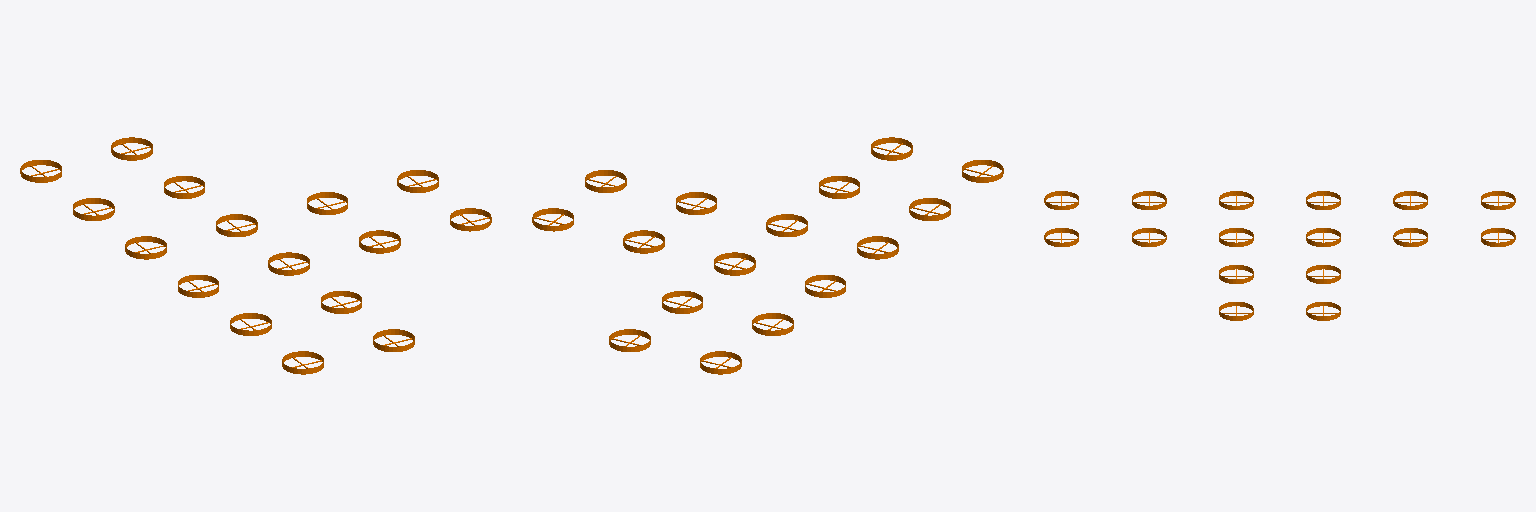
robot.urdf — tetris:
<?xml version="1.0"?>
<robot name="tetris">
    <properties arm="0.0397" kf="3.16e-10" km="7.94e-12" thrust2weight="2.25" max_speed_kmh="30" gnd_eff_coeff="11.36859" prop_radius="2.31348e-2" drag_coeff_xy="9.1785e-7" drag_coeff_z="10.311e-7" dw_coeff_1="2267.18" dw_coeff_2=".16" dw_coeff_3="-.11" />
    <link name="robot_base">
        <inertial>
            <origin rpy="0 0 0" xyz="0 0 0" />
            <inertia ixx="0.012888000000000004" ixz="0.0" ixy="0.0" iyy="0.007488000000000002" iyz="0.0" izz="0.019800000000000005" />
            <mass value="0.54" />
        </inertial>
                
        <collision name="MultiRotor">
            <origin xyz="0.0 0.0 0.0" rpy="0.0 0.0 0.0"/>
            <geometry>
                <box size="0.6 0.6 0.08" />
            </geometry>
        </collision>
        
    <visual name="Shape1">
        <origin xyz="0.0 0.0 0.040000" rpy="0 -1.570796 0.000000" />
        <geometry>
            <mesh filename="./module_vis.dae" />
        </geometry>
        <material name="Shape0_material">
            <color rgba="0.1804 0.1804 0.1804 1.0" />
        </material>
    </visual>
            
    <visual name="Shape2">
        <origin xyz="0.2 0.0 0.040000" rpy="0 -1.570796 0.000000" />
        <geometry>
            <mesh filename="./module_vis.dae" />
        </geometry>
        <material name="Shape0_material">
            <color rgba="0.1804 0.1804 0.1804 1.0" />
        </material>
    </visual>
            
    <visual name="Shape3">
        <origin xyz="0.0 0.2 0.040000" rpy="0 -1.570796 0.000000" />
        <geometry>
            <mesh filename="./module_vis.dae" />
        </geometry>
        <material name="Shape0_material">
            <color rgba="0.1804 0.1804 0.1804 1.0" />
        </material>
    </visual>
            
    <visual name="Shape4">
        <origin xyz="0.0 -0.2 0.040000" rpy="0 -1.570796 0.000000" />
        <geometry>
            <mesh filename="./module_vis.dae" />
        </geometry>
        <material name="Shape0_material">
            <color rgba="0.1804 0.1804 0.1804 1.0" />
        </material>
    </visual>
            
    </link>
        
    <joint name="propeller1" type="fixed">
        <axis xyz="0 0 1" />
        <parent link="robot_base" />
        <child link="propellerrespondable1" />
        <origin xyz="0.05 -0.05 0.03" rpy="0 0 0" />
    </joint>
    <link name="propellerrespondable1">
        <inertial>
            <origin rpy="0 0 0" xyz="-0.000000 0.000000 0.012000" />
            <inertia izz="1.5977926901062e-07" ixx="8.2325171633286e-08" ixy="-5.0583716089947e-21" iyz="-5.6129890954029e-16" iyy="8.2325156656747e-08" ixz="5.7933230213793e-16" />
            <mass value="0.0" />
        </inertial>
        <collision name="propeller_respondable1">
            <origin xyz="-0.000000 0.000000 0.012000" rpy="3.141593 3.141593 1.865350" />
            <geometry>
                <cylinder length="0.0075362827628851" radius="0.024999996647239" />
            </geometry>
        </collision>
        <visual name="propeller_body1">
            <origin xyz="-0.000000 0.000000 0.012000" rpy="0 0 0" />
            <geometry>
                <mesh filename="./propeller_vis.dae" />
            </geometry>
            <material name="propellerbody_material">
                <color rgba="1 0.5294 0 0.9" />
            </material>
        </visual>
    </link>
                
    <joint name="propeller2" type="fixed">
        <axis xyz="0 0 1" />
        <parent link="robot_base" />
        <child link="propellerrespondable2" />
        <origin xyz="-0.05 -0.05 0.03" rpy="0 0 0" />
    </joint>
    <link name="propellerrespondable2">
        <inertial>
            <origin rpy="0 0 0" xyz="-0.000000 0.000000 0.012000" />
            <inertia izz="1.5977926901062e-07" ixx="8.2325171633286e-08" ixy="-5.0583716089947e-21" iyz="-5.6129890954029e-16" iyy="8.2325156656747e-08" ixz="5.7933230213793e-16" />
            <mass value="0.0" />
        </inertial>
        <collision name="propeller_respondable2">
            <origin xyz="-0.000000 0.000000 0.012000" rpy="3.141593 3.141593 1.865350" />
            <geometry>
                <cylinder length="0.0075362827628851" radius="0.024999996647239" />
            </geometry>
        </collision>
        <visual name="propeller_body2">
            <origin xyz="-0.000000 0.000000 0.012000" rpy="0 0 0" />
            <geometry>
                <mesh filename="./propeller_vis.dae" />
            </geometry>
            <material name="propellerbody_material">
                <color rgba="1 0.5294 0 0.9" />
            </material>
        </visual>
    </link>
                
    <joint name="propeller3" type="fixed">
        <axis xyz="0 0 1" />
        <parent link="robot_base" />
        <child link="propellerrespondable3" />
        <origin xyz="-0.05 0.05 0.03" rpy="0 0 0" />
    </joint>
    <link name="propellerrespondable3">
        <inertial>
            <origin rpy="0 0 0" xyz="-0.000000 0.000000 0.012000" />
            <inertia izz="1.5977926901062e-07" ixx="8.2325171633286e-08" ixy="-5.0583716089947e-21" iyz="-5.6129890954029e-16" iyy="8.2325156656747e-08" ixz="5.7933230213793e-16" />
            <mass value="0.0" />
        </inertial>
        <collision name="propeller_respondable3">
            <origin xyz="-0.000000 0.000000 0.012000" rpy="3.141593 3.141593 1.865350" />
            <geometry>
                <cylinder length="0.0075362827628851" radius="0.024999996647239" />
            </geometry>
        </collision>
        <visual name="propeller_body3">
            <origin xyz="-0.000000 0.000000 0.012000" rpy="0 0 0" />
            <geometry>
                <mesh filename="./propeller_vis.dae" />
            </geometry>
            <material name="propellerbody_material">
                <color rgba="1 0.5294 0 0.9" />
            </material>
        </visual>
    </link>
                
    <joint name="propeller4" type="fixed">
        <axis xyz="0 0 1" />
        <parent link="robot_base" />
        <child link="propellerrespondable4" />
        <origin xyz="0.05 0.05 0.03" rpy="0 0 0" />
    </joint>
    <link name="propellerrespondable4">
        <inertial>
            <origin rpy="0 0 0" xyz="-0.000000 0.000000 0.012000" />
            <inertia izz="1.5977926901062e-07" ixx="8.2325171633286e-08" ixy="-5.0583716089947e-21" iyz="-5.6129890954029e-16" iyy="8.2325156656747e-08" ixz="5.7933230213793e-16" />
            <mass value="0.0" />
        </inertial>
        <collision name="propeller_respondable4">
            <origin xyz="-0.000000 0.000000 0.012000" rpy="3.141593 3.141593 1.865350" />
            <geometry>
                <cylinder length="0.0075362827628851" radius="0.024999996647239" />
            </geometry>
        </collision>
        <visual name="propeller_body4">
            <origin xyz="-0.000000 0.000000 0.012000" rpy="0 0 0" />
            <geometry>
                <mesh filename="./propeller_vis.dae" />
            </geometry>
            <material name="propellerbody_material">
                <color rgba="1 0.5294 0 0.9" />
            </material>
        </visual>
    </link>
                
    <joint name="propeller5" type="fixed">
        <axis xyz="0 0 1" />
        <parent link="robot_base" />
        <child link="propellerrespondable5" />
        <origin xyz="0.25 -0.05 0.03" rpy="0 0 0" />
    </joint>
    <link name="propellerrespondable5">
        <inertial>
            <origin rpy="0 0 0" xyz="-0.000000 0.000000 0.012000" />
            <inertia izz="1.5977926901062e-07" ixx="8.2325171633286e-08" ixy="-5.0583716089947e-21" iyz="-5.6129890954029e-16" iyy="8.2325156656747e-08" ixz="5.7933230213793e-16" />
            <mass value="0.0" />
        </inertial>
        <collision name="propeller_respondable5">
            <origin xyz="-0.000000 0.000000 0.012000" rpy="3.141593 3.141593 1.865350" />
            <geometry>
                <cylinder length="0.0075362827628851" radius="0.024999996647239" />
            </geometry>
        </collision>
        <visual name="propeller_body5">
            <origin xyz="-0.000000 0.000000 0.012000" rpy="0 0 0" />
            <geometry>
                <mesh filename="./propeller_vis.dae" />
            </geometry>
            <material name="propellerbody_material">
                <color rgba="1 0.5294 0 0.9" />
            </material>
        </visual>
    </link>
                
    <joint name="propeller6" type="fixed">
        <axis xyz="0 0 1" />
        <parent link="robot_base" />
        <child link="propellerrespondable6" />
        <origin xyz="0.15000000000000002 -0.05 0.03" rpy="0 0 0" />
    </joint>
    <link name="propellerrespondable6">
        <inertial>
            <origin rpy="0 0 0" xyz="-0.000000 0.000000 0.012000" />
            <inertia izz="1.5977926901062e-07" ixx="8.2325171633286e-08" ixy="-5.0583716089947e-21" iyz="-5.6129890954029e-16" iyy="8.2325156656747e-08" ixz="5.7933230213793e-16" />
            <mass value="0.0" />
        </inertial>
        <collision name="propeller_respondable6">
            <origin xyz="-0.000000 0.000000 0.012000" rpy="3.141593 3.141593 1.865350" />
            <geometry>
                <cylinder length="0.0075362827628851" radius="0.024999996647239" />
            </geometry>
        </collision>
        <visual name="propeller_body6">
            <origin xyz="-0.000000 0.000000 0.012000" rpy="0 0 0" />
            <geometry>
                <mesh filename="./propeller_vis.dae" />
            </geometry>
            <material name="propellerbody_material">
                <color rgba="1 0.5294 0 0.9" />
            </material>
        </visual>
    </link>
                
    <joint name="propeller7" type="fixed">
        <axis xyz="0 0 1" />
        <parent link="robot_base" />
        <child link="propellerrespondable7" />
        <origin xyz="0.15000000000000002 0.05 0.03" rpy="0 0 0" />
    </joint>
    <link name="propellerrespondable7">
        <inertial>
            <origin rpy="0 0 0" xyz="-0.000000 0.000000 0.012000" />
            <inertia izz="1.5977926901062e-07" ixx="8.2325171633286e-08" ixy="-5.0583716089947e-21" iyz="-5.6129890954029e-16" iyy="8.2325156656747e-08" ixz="5.7933230213793e-16" />
            <mass value="0.0" />
        </inertial>
        <collision name="propeller_respondable7">
            <origin xyz="-0.000000 0.000000 0.012000" rpy="3.141593 3.141593 1.865350" />
            <geometry>
                <cylinder length="0.0075362827628851" radius="0.024999996647239" />
            </geometry>
        </collision>
        <visual name="propeller_body7">
            <origin xyz="-0.000000 0.000000 0.012000" rpy="0 0 0" />
            <geometry>
                <mesh filename="./propeller_vis.dae" />
            </geometry>
            <material name="propellerbody_material">
                <color rgba="1 0.5294 0 0.9" />
            </material>
        </visual>
    </link>
                
    <joint name="propeller8" type="fixed">
        <axis xyz="0 0 1" />
        <parent link="robot_base" />
        <child link="propellerrespondable8" />
        <origin xyz="0.25 0.05 0.03" rpy="0 0 0" />
    </joint>
    <link name="propellerrespondable8">
        <inertial>
            <origin rpy="0 0 0" xyz="-0.000000 0.000000 0.012000" />
            <inertia izz="1.5977926901062e-07" ixx="8.2325171633286e-08" ixy="-5.0583716089947e-21" iyz="-5.6129890954029e-16" iyy="8.2325156656747e-08" ixz="5.7933230213793e-16" />
            <mass value="0.0" />
        </inertial>
        <collision name="propeller_respondable8">
            <origin xyz="-0.000000 0.000000 0.012000" rpy="3.141593 3.141593 1.865350" />
            <geometry>
                <cylinder length="0.0075362827628851" radius="0.024999996647239" />
            </geometry>
        </collision>
        <visual name="propeller_body8">
            <origin xyz="-0.000000 0.000000 0.012000" rpy="0 0 0" />
            <geometry>
                <mesh filename="./propeller_vis.dae" />
            </geometry>
            <material name="propellerbody_material">
                <color rgba="1 0.5294 0 0.9" />
            </material>
        </visual>
    </link>
                
    <joint name="propeller9" type="fixed">
        <axis xyz="0 0 1" />
        <parent link="robot_base" />
        <child link="propellerrespondable9" />
        <origin xyz="0.05 0.15000000000000002 0.03" rpy="0 0 0" />
    </joint>
    <link name="propellerrespondable9">
        <inertial>
            <origin rpy="0 0 0" xyz="-0.000000 0.000000 0.012000" />
            <inertia izz="1.5977926901062e-07" ixx="8.2325171633286e-08" ixy="-5.0583716089947e-21" iyz="-5.6129890954029e-16" iyy="8.2325156656747e-08" ixz="5.7933230213793e-16" />
            <mass value="0.0" />
        </inertial>
        <collision name="propeller_respondable9">
            <origin xyz="-0.000000 0.000000 0.012000" rpy="3.141593 3.141593 1.865350" />
            <geometry>
                <cylinder length="0.0075362827628851" radius="0.024999996647239" />
            </geometry>
        </collision>
        <visual name="propeller_body9">
            <origin xyz="-0.000000 0.000000 0.012000" rpy="0 0 0" />
            <geometry>
                <mesh filename="./propeller_vis.dae" />
            </geometry>
            <material name="propellerbody_material">
                <color rgba="1 0.5294 0 0.9" />
            </material>
        </visual>
    </link>
                
    <joint name="propeller10" type="fixed">
        <axis xyz="0 0 1" />
        <parent link="robot_base" />
        <child link="propellerrespondable10" />
        <origin xyz="-0.05 0.15000000000000002 0.03" rpy="0 0 0" />
    </joint>
    <link name="propellerrespondable10">
        <inertial>
            <origin rpy="0 0 0" xyz="-0.000000 0.000000 0.012000" />
            <inertia izz="1.5977926901062e-07" ixx="8.2325171633286e-08" ixy="-5.0583716089947e-21" iyz="-5.6129890954029e-16" iyy="8.2325156656747e-08" ixz="5.7933230213793e-16" />
            <mass value="0.0" />
        </inertial>
        <collision name="propeller_respondable10">
            <origin xyz="-0.000000 0.000000 0.012000" rpy="3.141593 3.141593 1.865350" />
            <geometry>
                <cylinder length="0.0075362827628851" radius="0.024999996647239" />
            </geometry>
        </collision>
        <visual name="propeller_body10">
            <origin xyz="-0.000000 0.000000 0.012000" rpy="0 0 0" />
            <geometry>
                <mesh filename="./propeller_vis.dae" />
            </geometry>
            <material name="propellerbody_material">
                <color rgba="1 0.5294 0 0.9" />
            </material>
        </visual>
    </link>
                
    <joint name="propeller11" type="fixed">
        <axis xyz="0 0 1" />
        <parent link="robot_base" />
        <child link="propellerrespondable11" />
        <origin xyz="-0.05 0.25 0.03" rpy="0 0 0" />
    </joint>
    <link name="propellerrespondable11">
        <inertial>
            <origin rpy="0 0 0" xyz="-0.000000 0.000000 0.012000" />
            <inertia izz="1.5977926901062e-07" ixx="8.2325171633286e-08" ixy="-5.0583716089947e-21" iyz="-5.6129890954029e-16" iyy="8.2325156656747e-08" ixz="5.7933230213793e-16" />
            <mass value="0.0" />
        </inertial>
        <collision name="propeller_respondable11">
            <origin xyz="-0.000000 0.000000 0.012000" rpy="3.141593 3.141593 1.865350" />
            <geometry>
                <cylinder length="0.0075362827628851" radius="0.024999996647239" />
            </geometry>
        </collision>
        <visual name="propeller_body11">
            <origin xyz="-0.000000 0.000000 0.012000" rpy="0 0 0" />
            <geometry>
                <mesh filename="./propeller_vis.dae" />
            </geometry>
            <material name="propellerbody_material">
                <color rgba="1 0.5294 0 0.9" />
            </material>
        </visual>
    </link>
                
    <joint name="propeller12" type="fixed">
        <axis xyz="0 0 1" />
        <parent link="robot_base" />
        <child link="propellerrespondable12" />
        <origin xyz="0.05 0.25 0.03" rpy="0 0 0" />
    </joint>
    <link name="propellerrespondable12">
        <inertial>
            <origin rpy="0 0 0" xyz="-0.000000 0.000000 0.012000" />
            <inertia izz="1.5977926901062e-07" ixx="8.2325171633286e-08" ixy="-5.0583716089947e-21" iyz="-5.6129890954029e-16" iyy="8.2325156656747e-08" ixz="5.7933230213793e-16" />
            <mass value="0.0" />
        </inertial>
        <collision name="propeller_respondable12">
            <origin xyz="-0.000000 0.000000 0.012000" rpy="3.141593 3.141593 1.865350" />
            <geometry>
                <cylinder length="0.0075362827628851" radius="0.024999996647239" />
            </geometry>
        </collision>
        <visual name="propeller_body12">
            <origin xyz="-0.000000 0.000000 0.012000" rpy="0 0 0" />
            <geometry>
                <mesh filename="./propeller_vis.dae" />
            </geometry>
            <material name="propellerbody_material">
                <color rgba="1 0.5294 0 0.9" />
            </material>
        </visual>
    </link>
                
    <joint name="propeller13" type="fixed">
        <axis xyz="0 0 1" />
        <parent link="robot_base" />
        <child link="propellerrespondable13" />
        <origin xyz="0.05 -0.25 0.03" rpy="0 0 0" />
    </joint>
    <link name="propellerrespondable13">
        <inertial>
            <origin rpy="0 0 0" xyz="-0.000000 0.000000 0.012000" />
            <inertia izz="1.5977926901062e-07" ixx="8.2325171633286e-08" ixy="-5.0583716089947e-21" iyz="-5.6129890954029e-16" iyy="8.2325156656747e-08" ixz="5.7933230213793e-16" />
            <mass value="0.0" />
        </inertial>
        <collision name="propeller_respondable13">
            <origin xyz="-0.000000 0.000000 0.012000" rpy="3.141593 3.141593 1.865350" />
            <geometry>
                <cylinder length="0.0075362827628851" radius="0.024999996647239" />
            </geometry>
        </collision>
        <visual name="propeller_body13">
            <origin xyz="-0.000000 0.000000 0.012000" rpy="0 0 0" />
            <geometry>
                <mesh filename="./propeller_vis.dae" />
            </geometry>
            <material name="propellerbody_material">
                <color rgba="1 0.5294 0 0.9" />
            </material>
        </visual>
    </link>
                
    <joint name="propeller14" type="fixed">
        <axis xyz="0 0 1" />
        <parent link="robot_base" />
        <child link="propellerrespondable14" />
        <origin xyz="-0.05 -0.25 0.03" rpy="0 0 0" />
    </joint>
    <link name="propellerrespondable14">
        <inertial>
            <origin rpy="0 0 0" xyz="-0.000000 0.000000 0.012000" />
            <inertia izz="1.5977926901062e-07" ixx="8.2325171633286e-08" ixy="-5.0583716089947e-21" iyz="-5.6129890954029e-16" iyy="8.2325156656747e-08" ixz="5.7933230213793e-16" />
            <mass value="0.0" />
        </inertial>
        <collision name="propeller_respondable14">
            <origin xyz="-0.000000 0.000000 0.012000" rpy="3.141593 3.141593 1.865350" />
            <geometry>
                <cylinder length="0.0075362827628851" radius="0.024999996647239" />
            </geometry>
        </collision>
        <visual name="propeller_body14">
            <origin xyz="-0.000000 0.000000 0.012000" rpy="0 0 0" />
            <geometry>
                <mesh filename="./propeller_vis.dae" />
            </geometry>
            <material name="propellerbody_material">
                <color rgba="1 0.5294 0 0.9" />
            </material>
        </visual>
    </link>
                
    <joint name="propeller15" type="fixed">
        <axis xyz="0 0 1" />
        <parent link="robot_base" />
        <child link="propellerrespondable15" />
        <origin xyz="-0.05 -0.15000000000000002 0.03" rpy="0 0 0" />
    </joint>
    <link name="propellerrespondable15">
        <inertial>
            <origin rpy="0 0 0" xyz="-0.000000 0.000000 0.012000" />
            <inertia izz="1.5977926901062e-07" ixx="8.2325171633286e-08" ixy="-5.0583716089947e-21" iyz="-5.6129890954029e-16" iyy="8.2325156656747e-08" ixz="5.7933230213793e-16" />
            <mass value="0.0" />
        </inertial>
        <collision name="propeller_respondable15">
            <origin xyz="-0.000000 0.000000 0.012000" rpy="3.141593 3.141593 1.865350" />
            <geometry>
                <cylinder length="0.0075362827628851" radius="0.024999996647239" />
            </geometry>
        </collision>
        <visual name="propeller_body15">
            <origin xyz="-0.000000 0.000000 0.012000" rpy="0 0 0" />
            <geometry>
                <mesh filename="./propeller_vis.dae" />
            </geometry>
            <material name="propellerbody_material">
                <color rgba="1 0.5294 0 0.9" />
            </material>
        </visual>
    </link>
                
    <joint name="propeller16" type="fixed">
        <axis xyz="0 0 1" />
        <parent link="robot_base" />
        <child link="propellerrespondable16" />
        <origin xyz="0.05 -0.15000000000000002 0.03" rpy="0 0 0" />
    </joint>
    <link name="propellerrespondable16">
        <inertial>
            <origin rpy="0 0 0" xyz="-0.000000 0.000000 0.012000" />
            <inertia izz="1.5977926901062e-07" ixx="8.2325171633286e-08" ixy="-5.0583716089947e-21" iyz="-5.6129890954029e-16" iyy="8.2325156656747e-08" ixz="5.7933230213793e-16" />
            <mass value="0.0" />
        </inertial>
        <collision name="propeller_respondable16">
            <origin xyz="-0.000000 0.000000 0.012000" rpy="3.141593 3.141593 1.865350" />
            <geometry>
                <cylinder length="0.0075362827628851" radius="0.024999996647239" />
            </geometry>
        </collision>
        <visual name="propeller_body16">
            <origin xyz="-0.000000 0.000000 0.012000" rpy="0 0 0" />
            <geometry>
                <mesh filename="./propeller_vis.dae" />
            </geometry>
            <material name="propellerbody_material">
                <color rgba="1 0.5294 0 0.9" />
            </material>
        </visual>
    </link>
                
</robot>
        

--- What the picture shows (computed from the rendered views, not written in the file) ---
Views: 3 orthographic renders of the robot side by side, from view 1: azimuth 30°, elevation 25°; view 2: azimuth 150°, elevation 25°; view 3: azimuth 270°, elevation 25°.
Model tetris with 17 links and 16 joints (16 fixed), rooted at robot_base, posed all joints at 0.
Visible links, largest first — view 1: propellerrespondable8, propellerrespondable12, propellerrespondable6, propellerrespondable1, propellerrespondable3, propellerrespondable10, propellerrespondable14, propellerrespondable4, propellerrespondable5, propellerrespondable11, propellerrespondable15, propellerrespondable13 (+4 smaller); view 2: propellerrespondable5, propellerrespondable13, propellerrespondable7, propellerrespondable2, propellerrespondable4, propellerrespondable11, propellerrespondable15, propellerrespondable1, propellerrespondable8, propellerrespondable14, propellerrespondable10, propellerrespondable12 (+4 smaller); view 3: none.
Link boxes in pixels (left/top/right/bottom): propellerrespondable8: left=397, top=170, right=438, bottom=192; propellerrespondable12: left=111, top=137, right=152, bottom=160; propellerrespondable6: left=359, top=230, right=400, bottom=253; propellerrespondable1: left=268, top=252, right=309, bottom=275; propellerrespondable3: left=125, top=236, right=166, bottom=259; propellerrespondable10: left=73, top=198, right=114, bottom=220; propellerrespondable14: left=282, top=351, right=323, bottom=374; propellerrespondable4: left=216, top=214, right=257, bottom=236; propellerrespondable5: left=450, top=208, right=491, bottom=231; propellerrespondable11: left=20, top=160, right=61, bottom=182; propellerrespondable15: left=230, top=313, right=271, bottom=335; propellerrespondable13: left=373, top=329, right=414, bottom=351; propellerrespondable5: left=585, top=170, right=626, bottom=192; propellerrespondable13: left=871, top=137, right=912, bottom=160; propellerrespondable7: left=623, top=230, right=664, bottom=253; propellerrespondable2: left=857, top=236, right=898, bottom=259; propellerrespondable4: left=714, top=252, right=755, bottom=275; propellerrespondable11: left=700, top=351, right=741, bottom=374; propellerrespondable15: left=909, top=198, right=950, bottom=220; propellerrespondable1: left=766, top=214, right=807, bottom=236; propellerrespondable8: left=532, top=208, right=573, bottom=231; propellerrespondable14: left=962, top=160, right=1003, bottom=182; propellerrespondable10: left=752, top=313, right=793, bottom=335; propellerrespondable12: left=609, top=329, right=650, bottom=351.
Size in the robot's own frame: 0.34 by 0.54 by 0.006 metres.
Meshes: 2 distinct files referenced, 16 mesh visuals loaded (1 Collada DAE); not drawn: 4 (reference not matched to a file when rendering).
